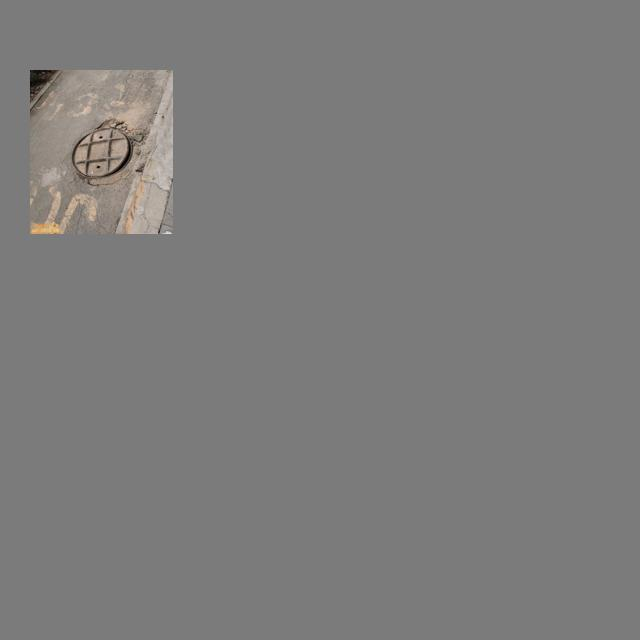circle: (62, 117, 157, 190)
